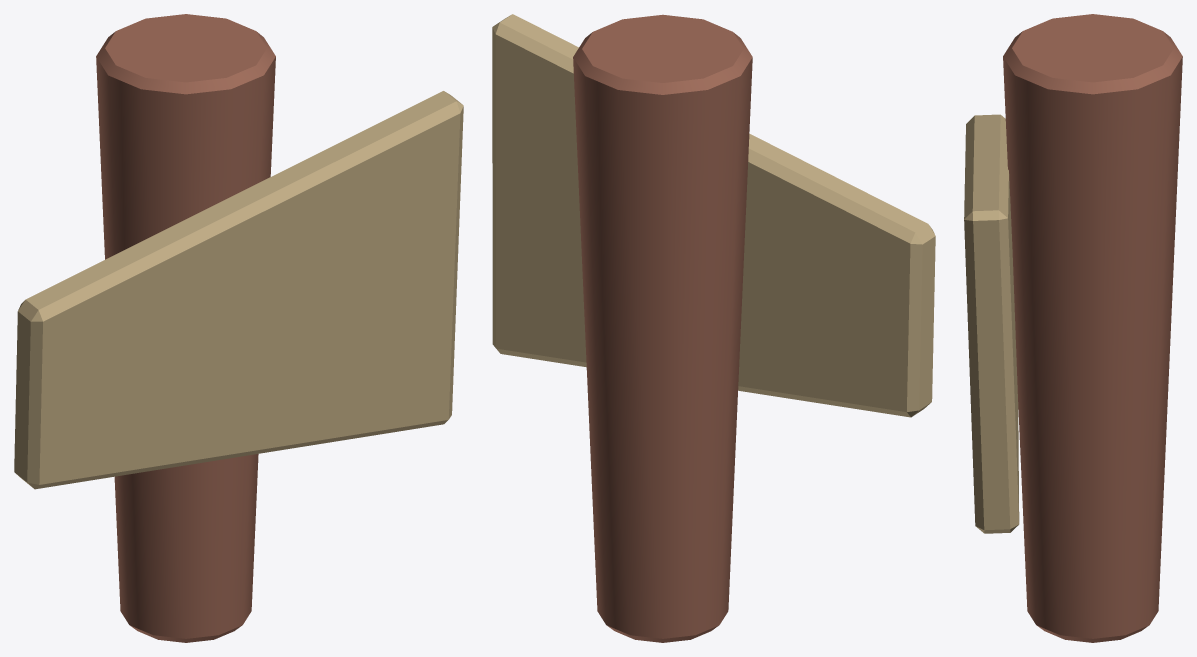
File: sign-bevel.fbx
3 views of the same model, side by side, from view 1: azimuth 30°, elevation 25°; view 2: azimuth 150°, elevation 25°; view 3: azimuth 270°, elevation 25° (orthographic).
Parts seen in each view (by area): view 1: tabela; view 2: tabela; view 3: tabela.
Part boxes in pixels (x1=…): tabela: x1=14, y1=14, x2=463, y2=642; tabela: x1=492, y1=14, x2=935, y2=642; tabela: x1=964, y1=14, x2=1182, y2=642.
Bounding box in the file's own units: 0.2775 × 0.3506 × 0.1217.
